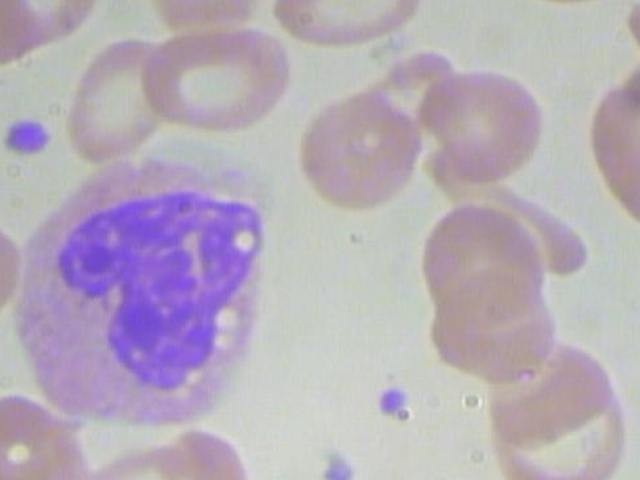Platelets: (1, 109, 59, 162), (365, 383, 416, 423), (310, 450, 359, 480)
RBC: (130, 19, 295, 137), (408, 63, 551, 183), (421, 261, 564, 381), (414, 202, 557, 322), (51, 32, 177, 164), (297, 83, 424, 212), (483, 379, 637, 480), (574, 79, 640, 239), (0, 384, 92, 480), (148, 419, 274, 480), (380, 469, 523, 480)
WBC: (0, 154, 289, 441)
